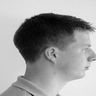ear: (41, 43, 62, 67)
